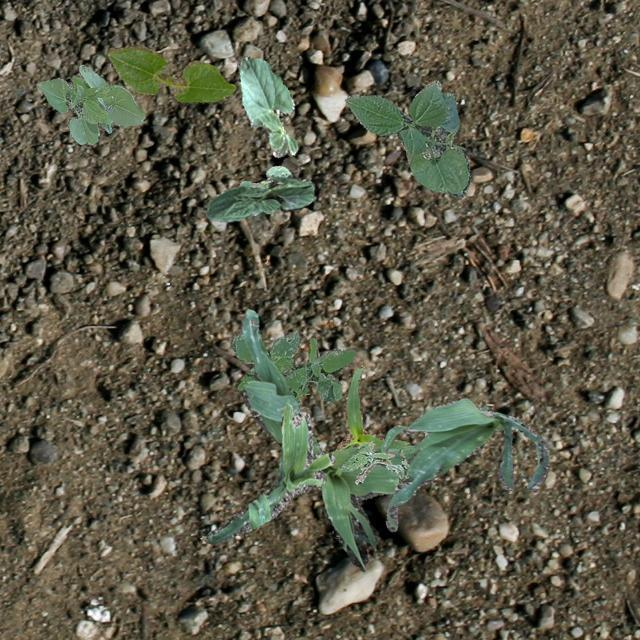crop: (238, 308, 490, 566), (380, 398, 548, 530), (204, 402, 334, 544), (344, 80, 469, 196), (36, 64, 144, 144), (106, 44, 235, 102), (236, 55, 298, 156), (336, 364, 410, 448), (205, 174, 312, 220), (238, 165, 290, 188)
weed: (230, 328, 356, 403), (338, 439, 408, 486)
